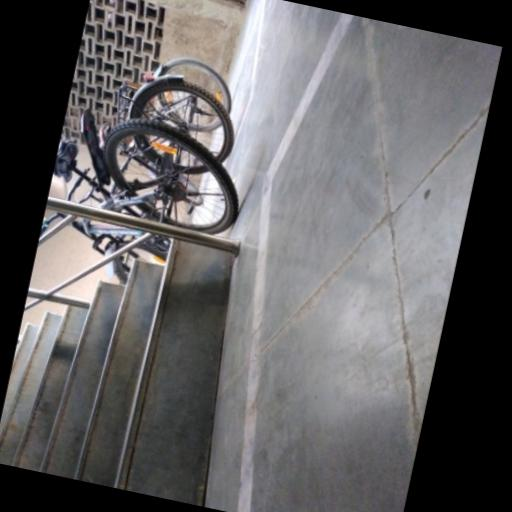stairs: (0, 242, 232, 505)
